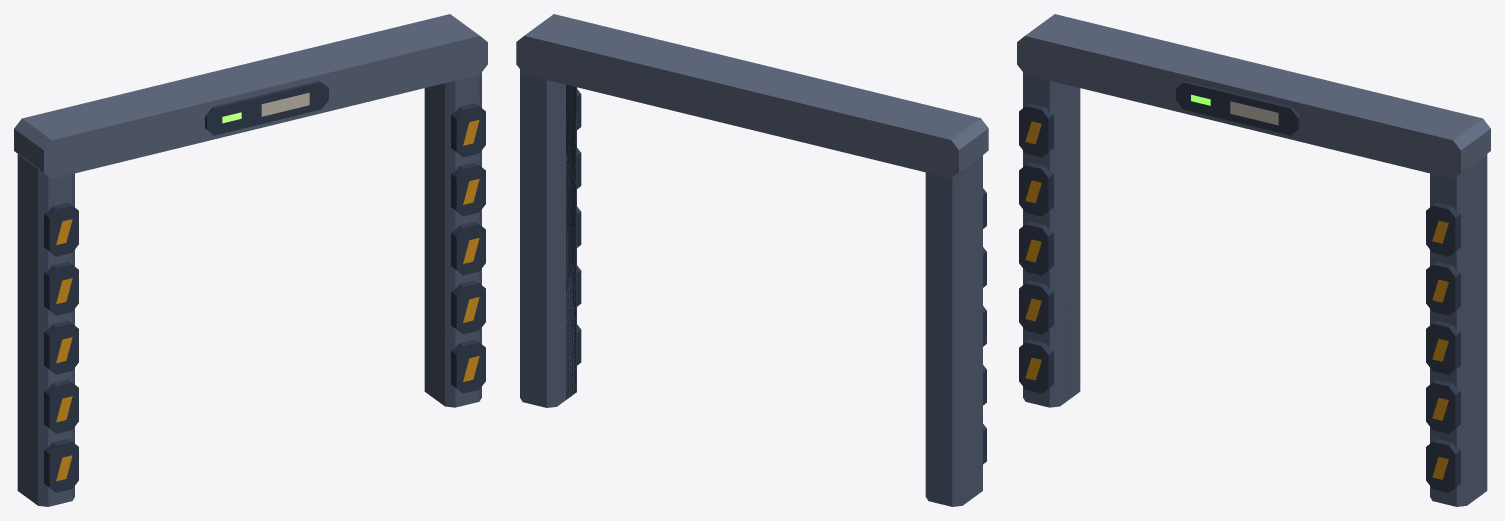
File: lab_blast_door_frame.glb
3 renders of one model, left to right at view 1: azimuth 30°, elevation 25°; view 2: azimuth 150°, elevation 25°; view 3: azimuth 330°, elevation 25°, orthographic.
Visible parts, largest first — view 1: armored_lintel, jamb, latch_housing, slash, print; view 2: jamb, armored_lintel, pressure_seal, latch_housing; view 3: armored_lintel, jamb, latch_housing, slash, print.
Boxes of the visible parts, x1,y1,x2,y2 form: armored_lintel: [14, 14, 487, 178]; jamb: [17, 72, 481, 506]; latch_housing: [44, 81, 485, 492]; slash: [56, 119, 479, 481]; print: [261, 92, 309, 116]; jamb: [520, 67, 982, 506]; armored_lintel: [516, 14, 988, 178]; pressure_seal: [566, 84, 576, 399]; latch_housing: [577, 89, 986, 464]; armored_lintel: [1017, 14, 1490, 178]; jamb: [1023, 72, 1487, 506]; latch_housing: [1019, 81, 1460, 492]; slash: [1025, 121, 1448, 479]; print: [1230, 101, 1278, 125].
Bounding box in the file's own units: 4.8 × 3.8 × 0.6.
